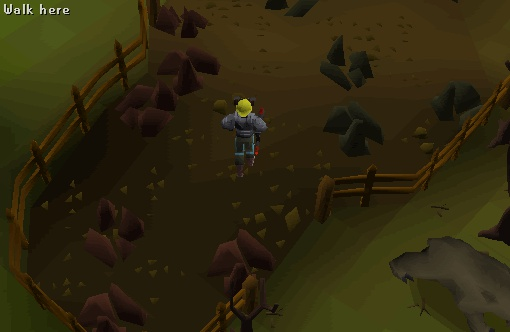coal: (311, 90, 388, 169), (419, 59, 496, 138), (308, 22, 385, 101)
iron: (190, 223, 297, 305), (63, 194, 170, 276), (89, 66, 196, 148), (140, 21, 247, 103)
